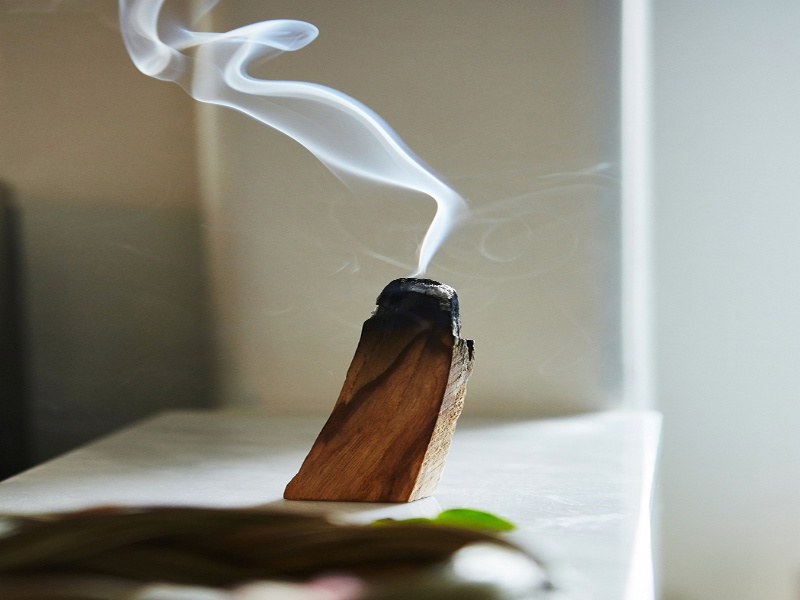smoke: (116, 1, 437, 274)
